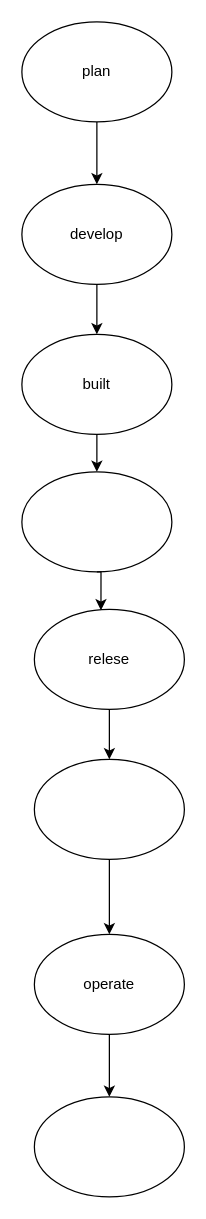
Some shapes in this 206 by 1219 pixel diagram are drawn without their labels. Each missing label, with the box of its shape:
deploy: (33, 758, 184, 859)
monitor: (33, 1096, 184, 1197)
text: (21, 471, 172, 572)
